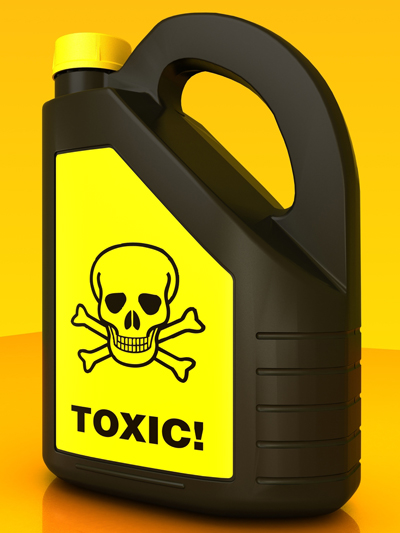Insecticide: (37, 7, 370, 529)
